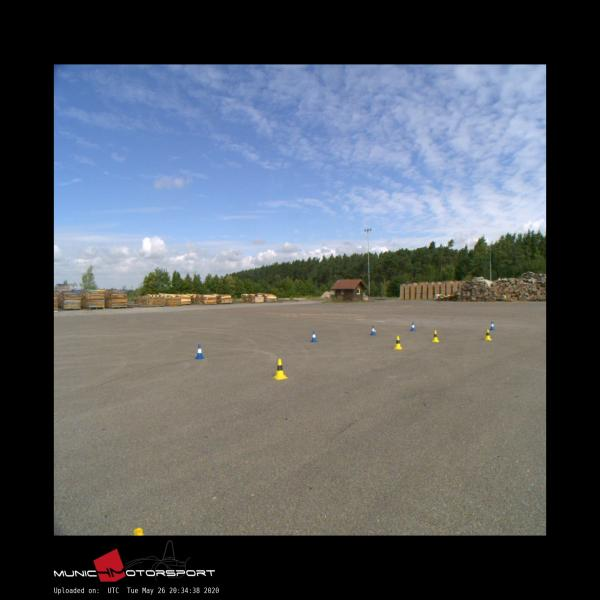blue_cone: (195, 344, 203, 358), (310, 332, 318, 341), (370, 325, 376, 335), (410, 322, 416, 331), (490, 321, 494, 330)
yellow_cone: (272, 358, 288, 379), (393, 335, 402, 350), (484, 328, 491, 340), (432, 331, 439, 342)
